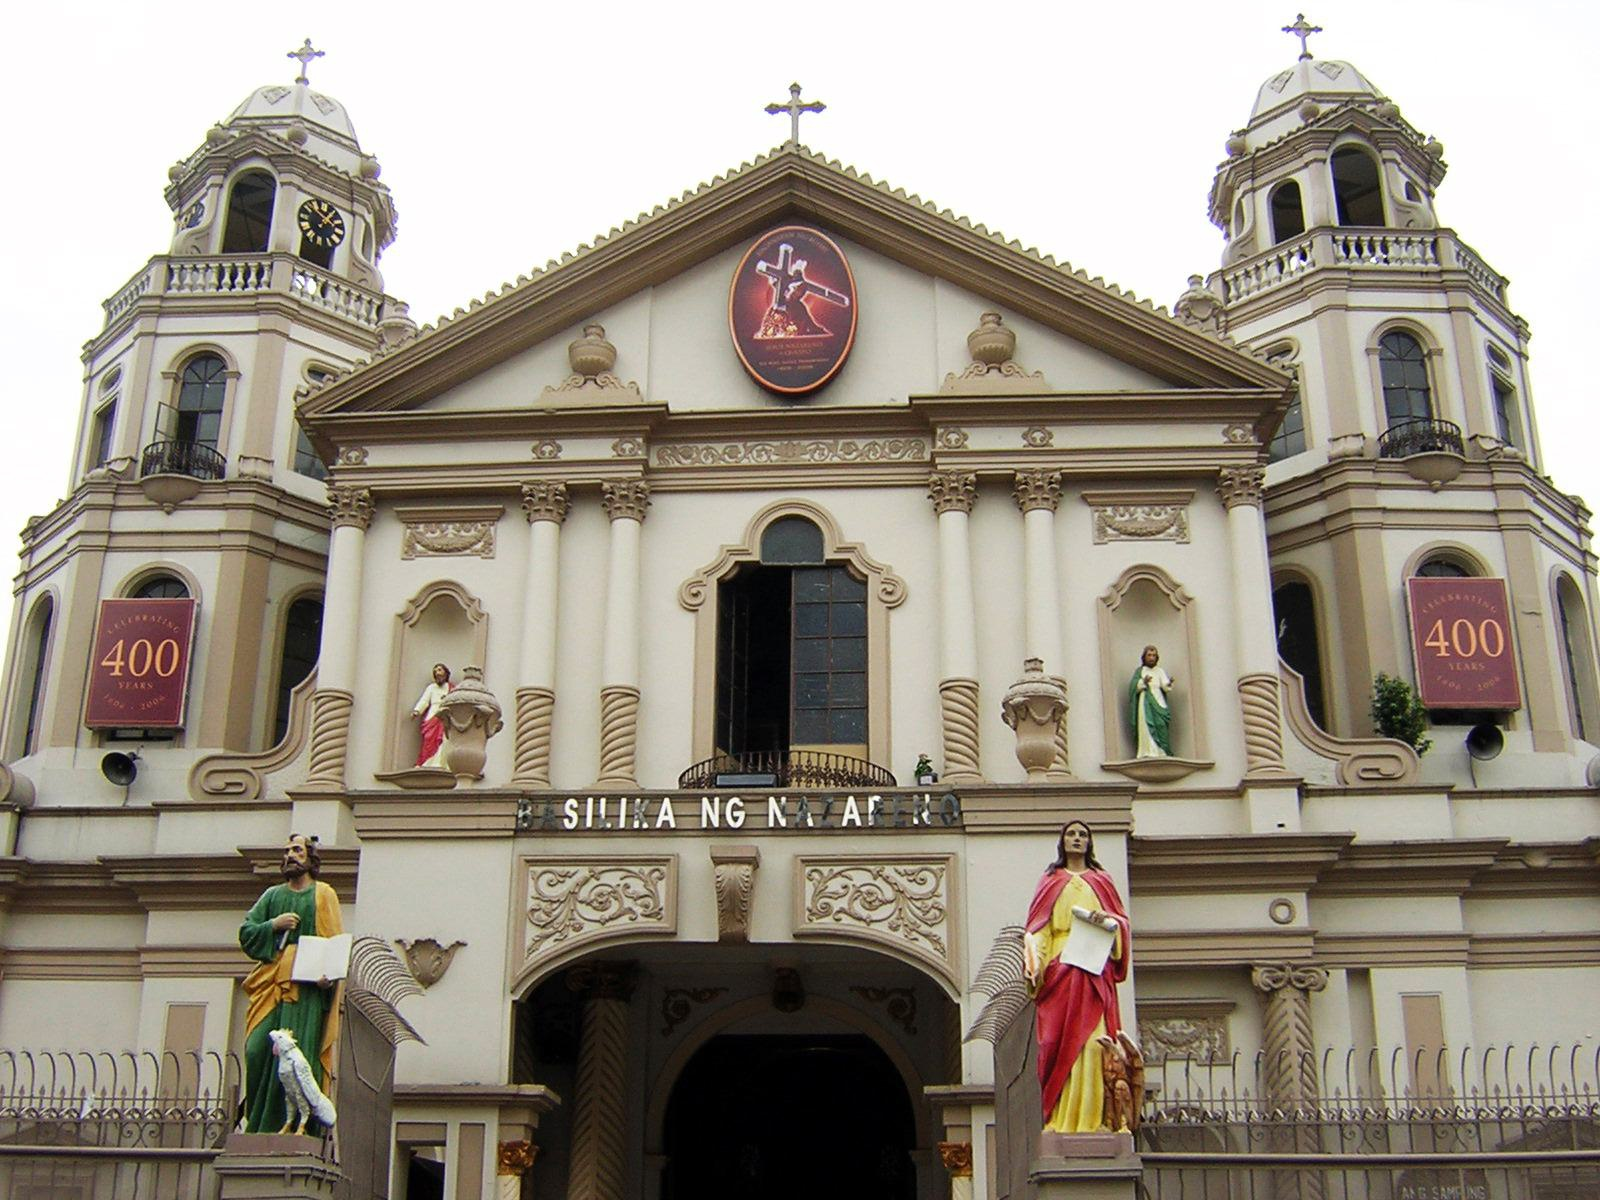quiapo_church_quiapo_manila: (1, 1, 1600, 1200)
